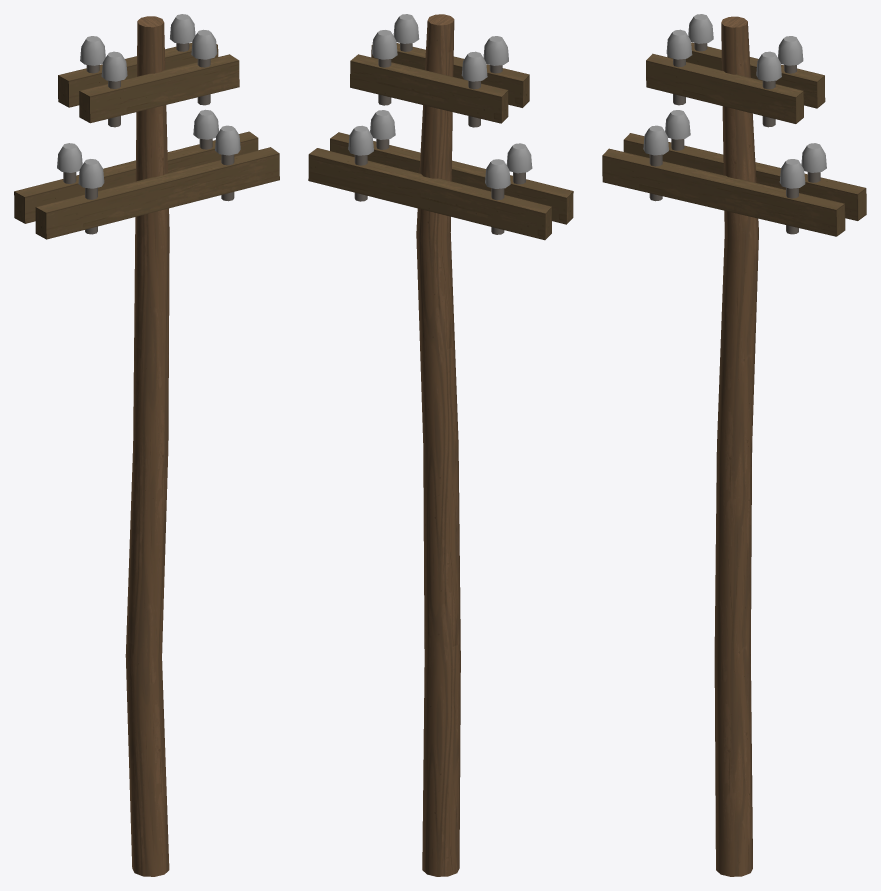
Rendered from SM_electric_column_01.glb.
The picture shows the model from 3 angles, left to right: view 1: azimuth 30°, elevation 25°; view 2: azimuth 150°, elevation 25°; view 3: azimuth 330°, elevation 25°; orthographic projection.
Parts seen in each view (by area): view 1: SM_electric_column_01; view 2: SM_electric_column_01; view 3: SM_electric_column_01.
Boxes of the visible parts, x1=… form: SM_electric_column_01: x1=14, y1=14, x2=279, y2=876; SM_electric_column_01: x1=308, y1=14, x2=573, y2=876; SM_electric_column_01: x1=602, y1=14, x2=866, y2=876.
Size of the model in its own units: 2.91 by 10 by 0.7217.
Materials: 4 (2 with a texture image).
